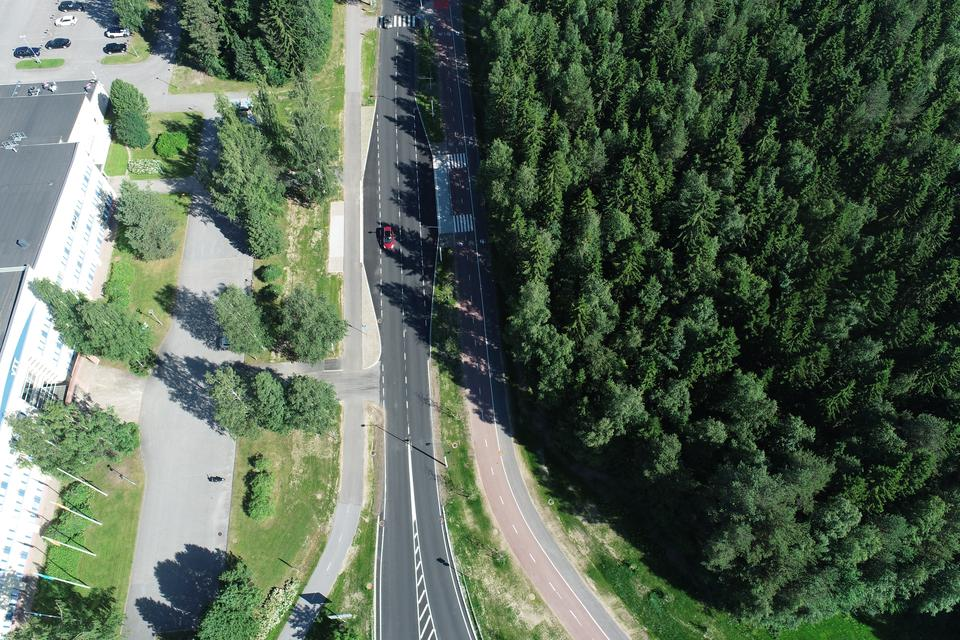intersection: (300, 345, 449, 428)
